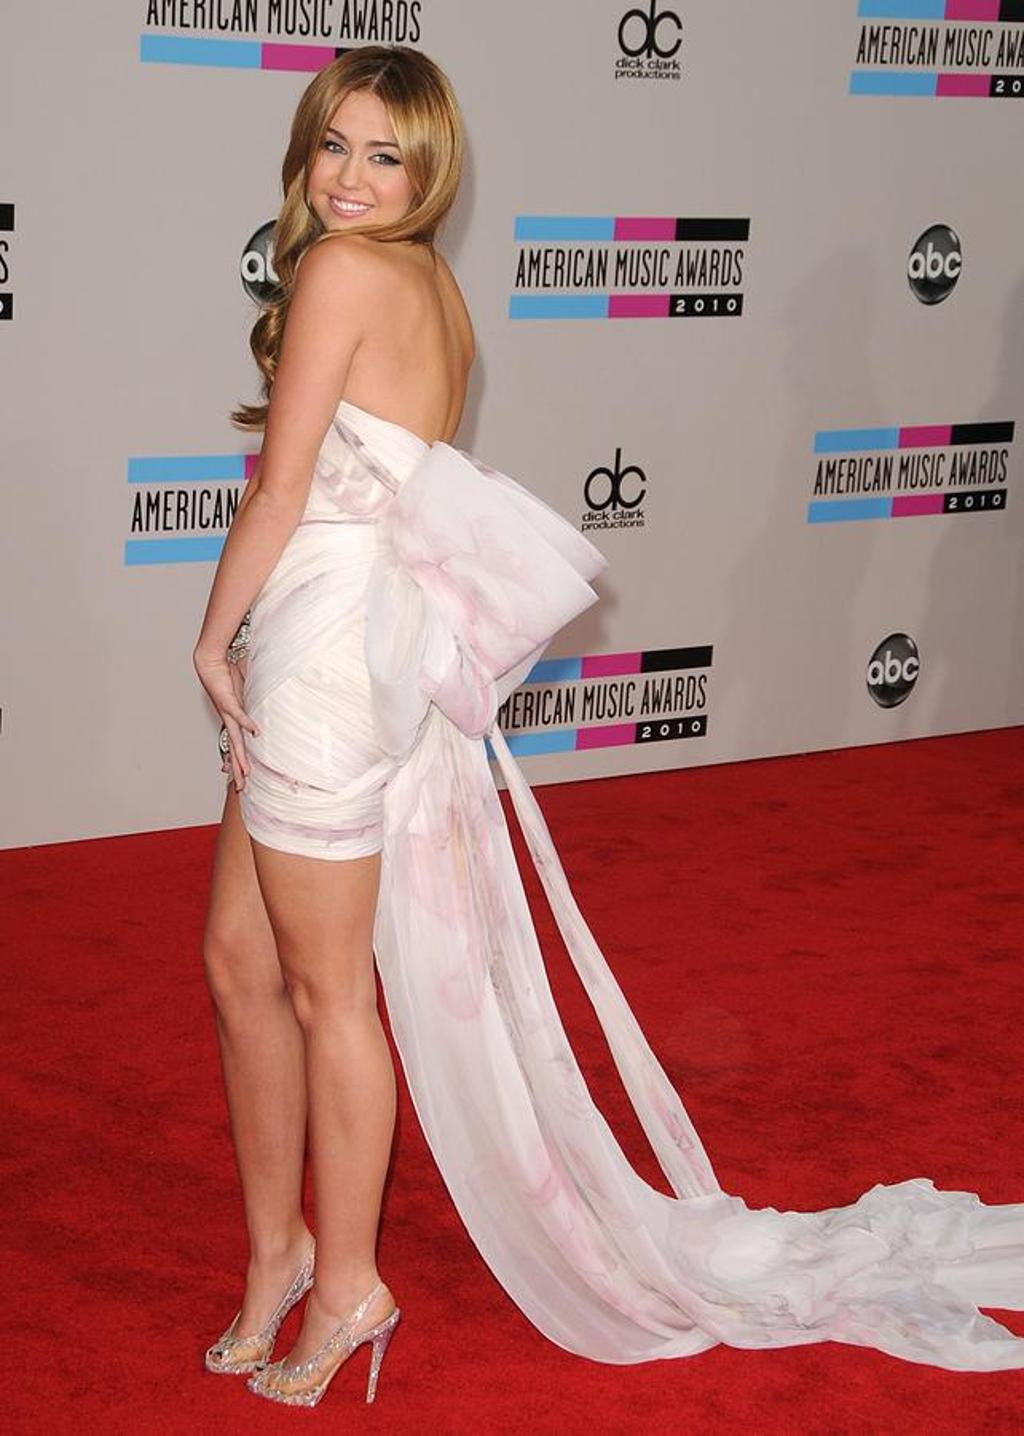face: (306, 81, 421, 238)
